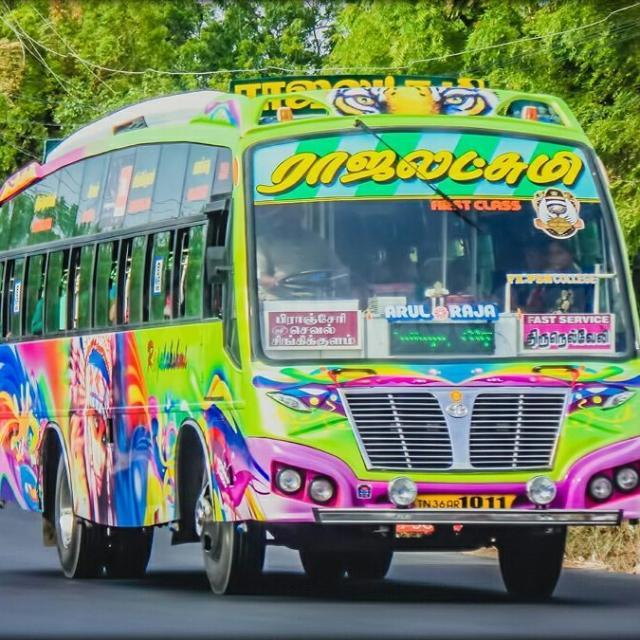Bus: (1, 71, 640, 595)
